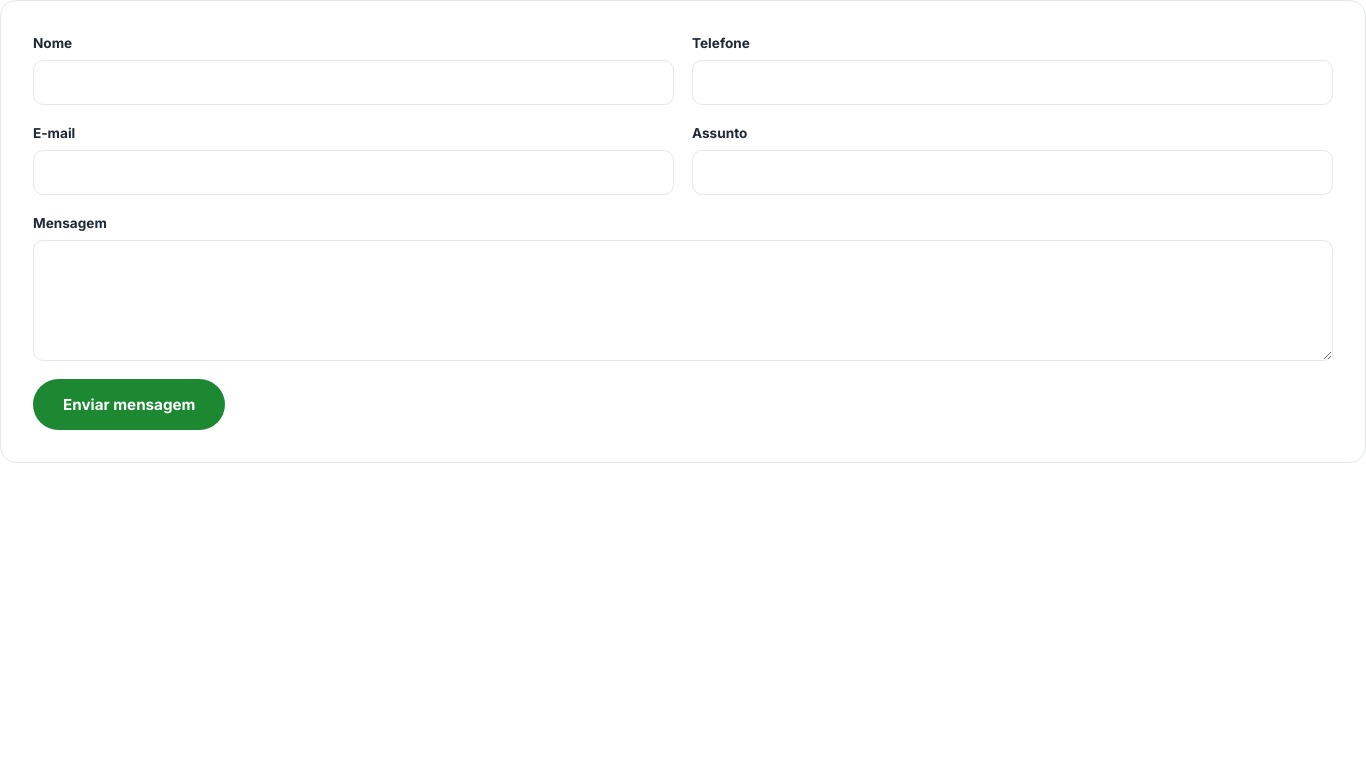
Test: ContactForm › shows a success message and clears the form after a successful submit
In the field labelled "Nome": (354, 83) left=33, top=60, right=674, bottom=105, type "Maria Souza"
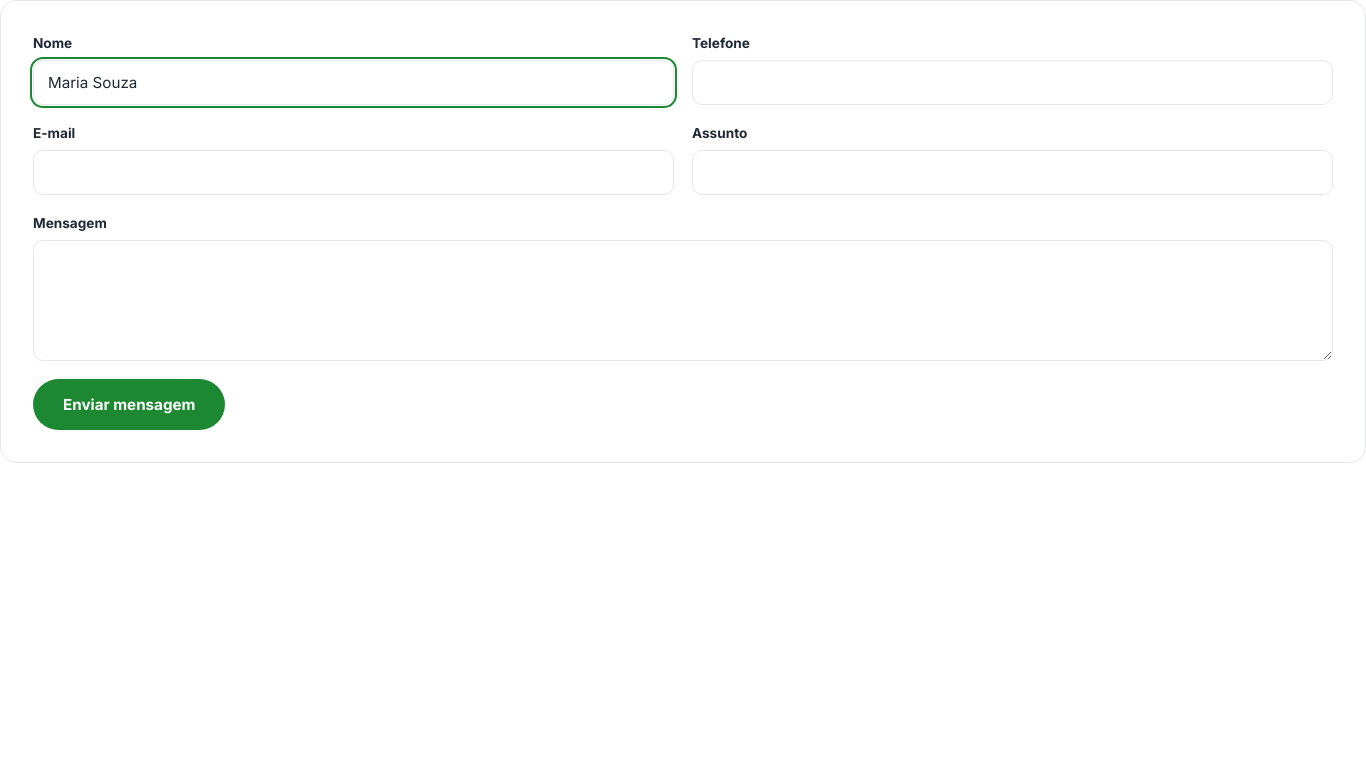
In the field labelled "Telefone": (1012, 83) left=692, top=60, right=1333, bottom=105, type "71999999999"
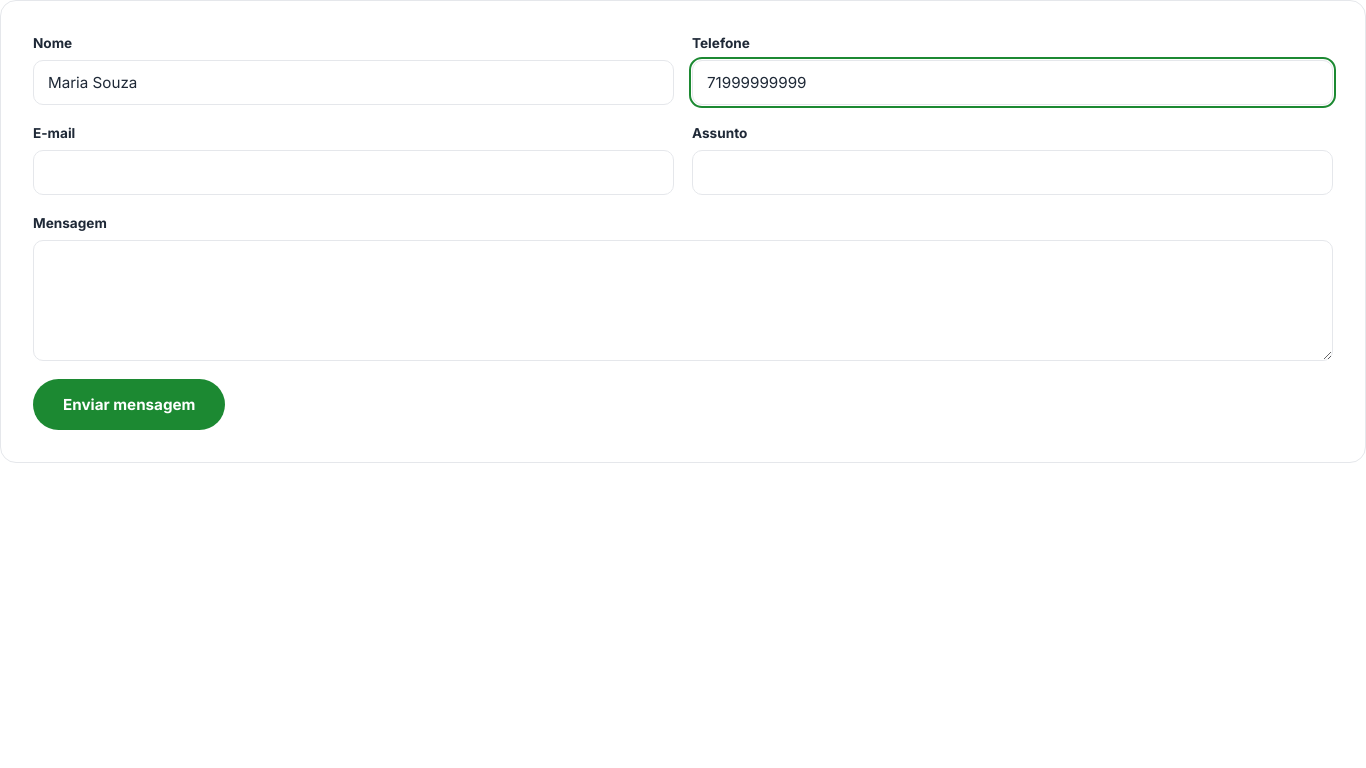
In the field labelled "E-mail": (354, 173) left=33, top=150, right=674, bottom=195, type "maria@example.com"
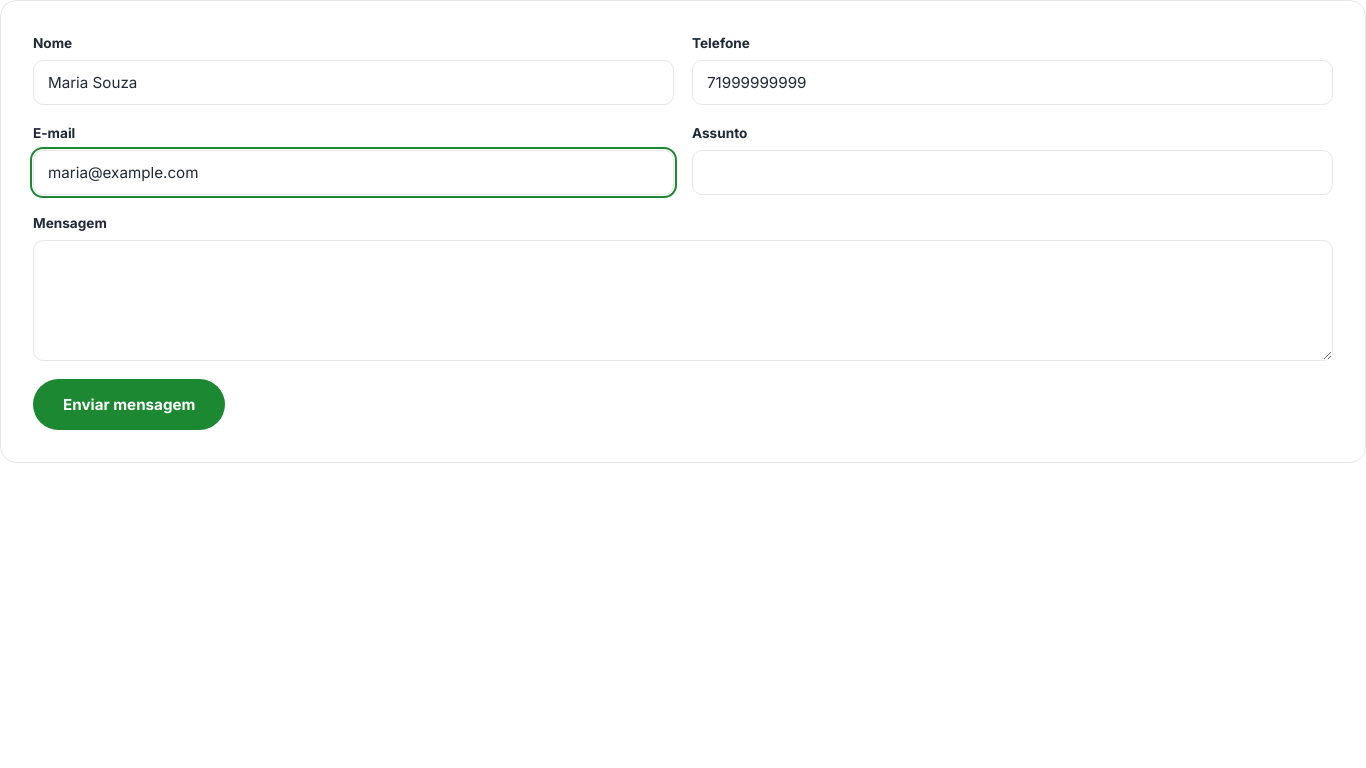
In the field labelled "Assunto": (1012, 173) left=692, top=150, right=1333, bottom=195, type "Abertura de empresa"
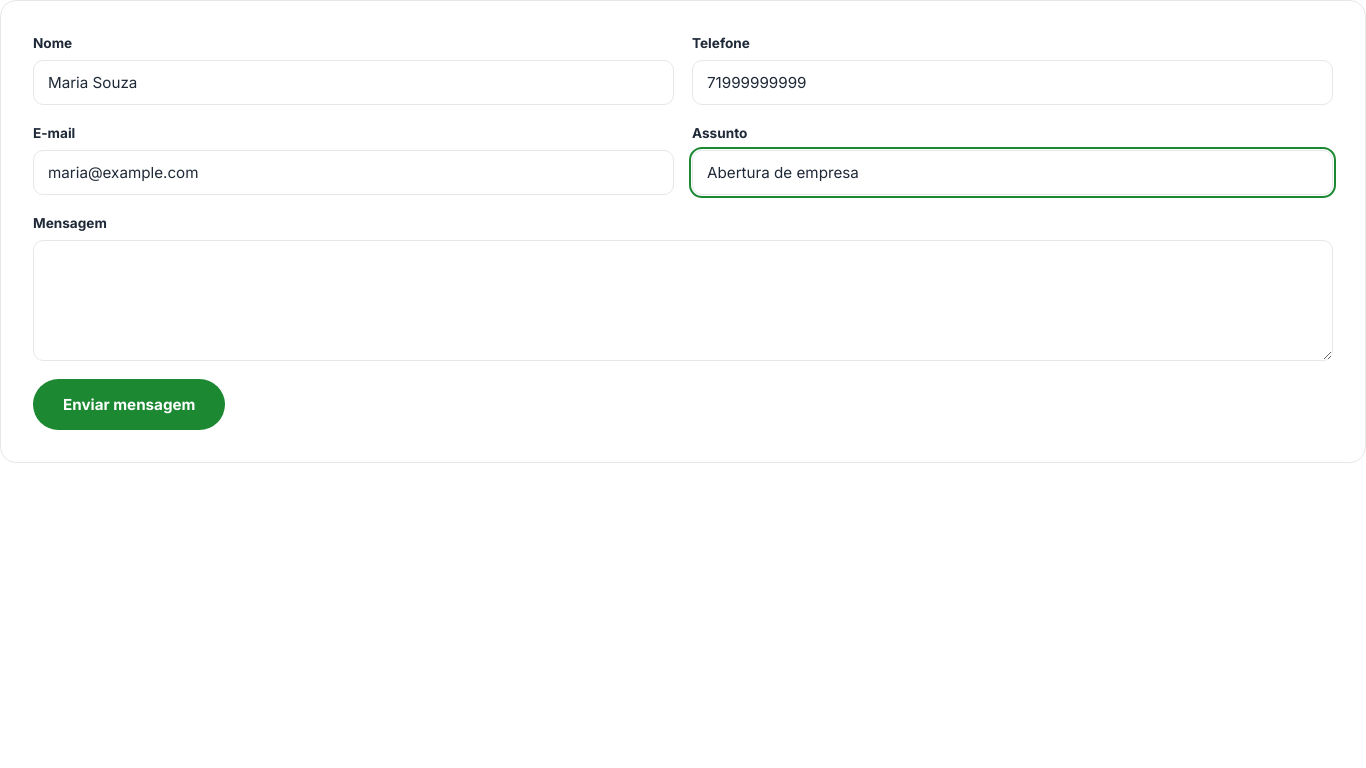
In the text box labelled "Mensagem": (683, 301) left=33, top=240, right=1333, bottom=361, type "Quero abrir uma empresa."
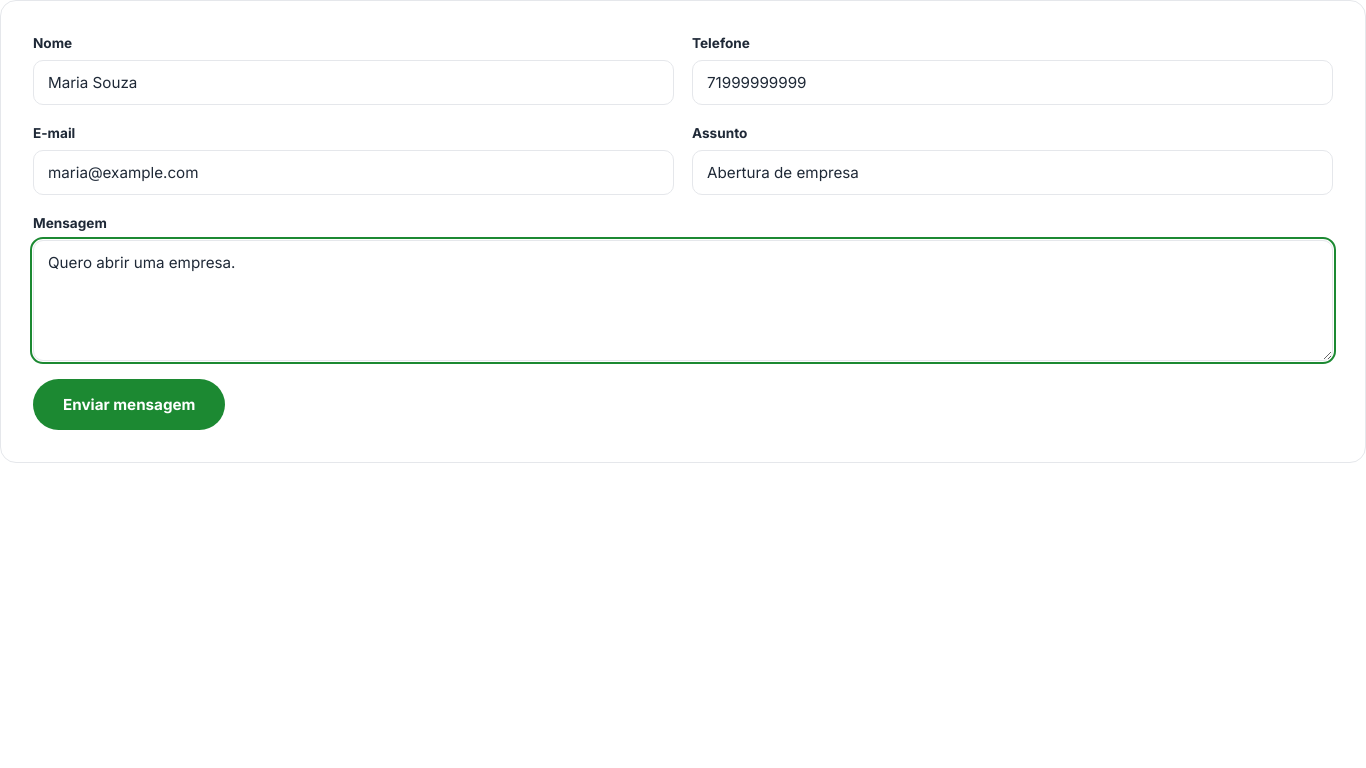
Click the button "Enviar mensagem": (129, 405) left=33, top=379, right=225, bottom=430
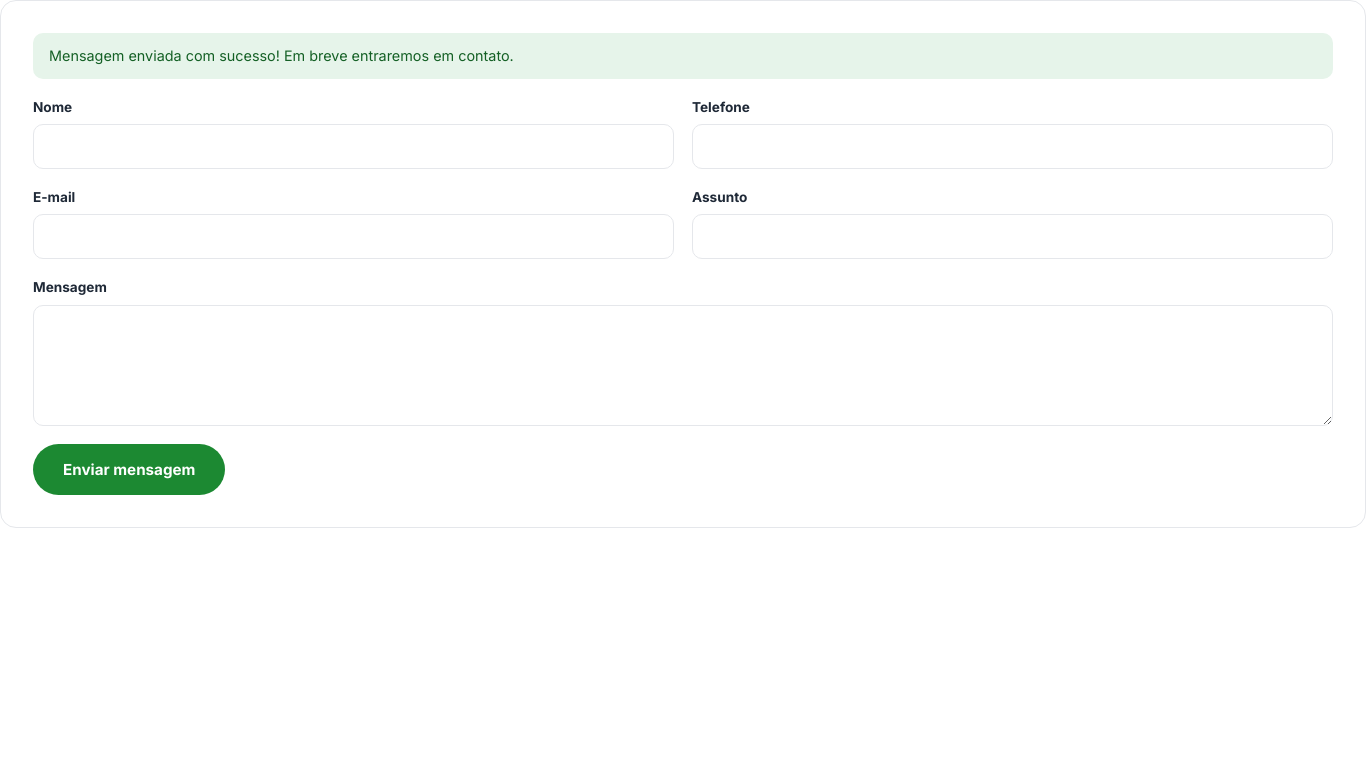
Check: the text "Mensagem enviada com sucesso" is shown, box left=49, top=47, right=514, bottom=64
Check: the field labelled "Nome" is empty, box left=33, top=124, right=674, bottom=169
